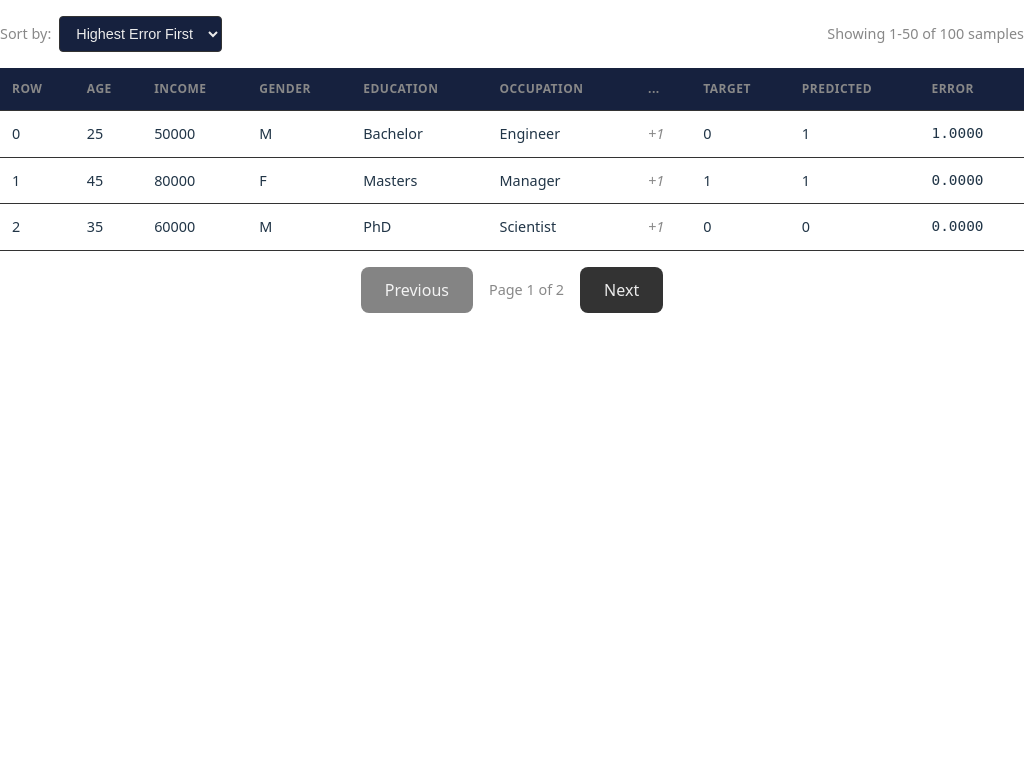
Scenario: ValidationSamplesTab › closes drawer when backdrop is clicked
Expected: the text "25" is shown, left=75, top=110, right=142, bottom=157
Click to open drawer
Click the row "0 25 50000 M Bachelor Engineer +1 0 1 1.0000" at (512, 134), box left=0, top=110, right=1023, bottom=157
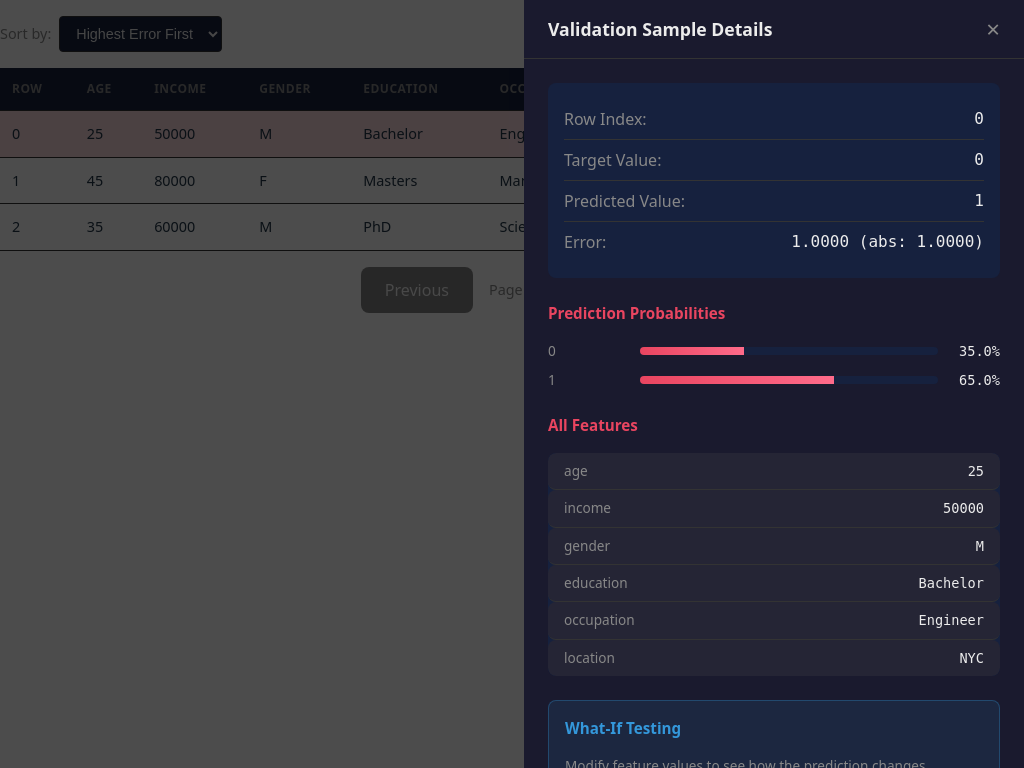
Expected: the heading "Validation Sample Details" is shown, left=548, top=16, right=772, bottom=42
Click the element with class "sample-drawer-backdrop" at (512, 384), box left=0, top=0, right=1023, bottom=767
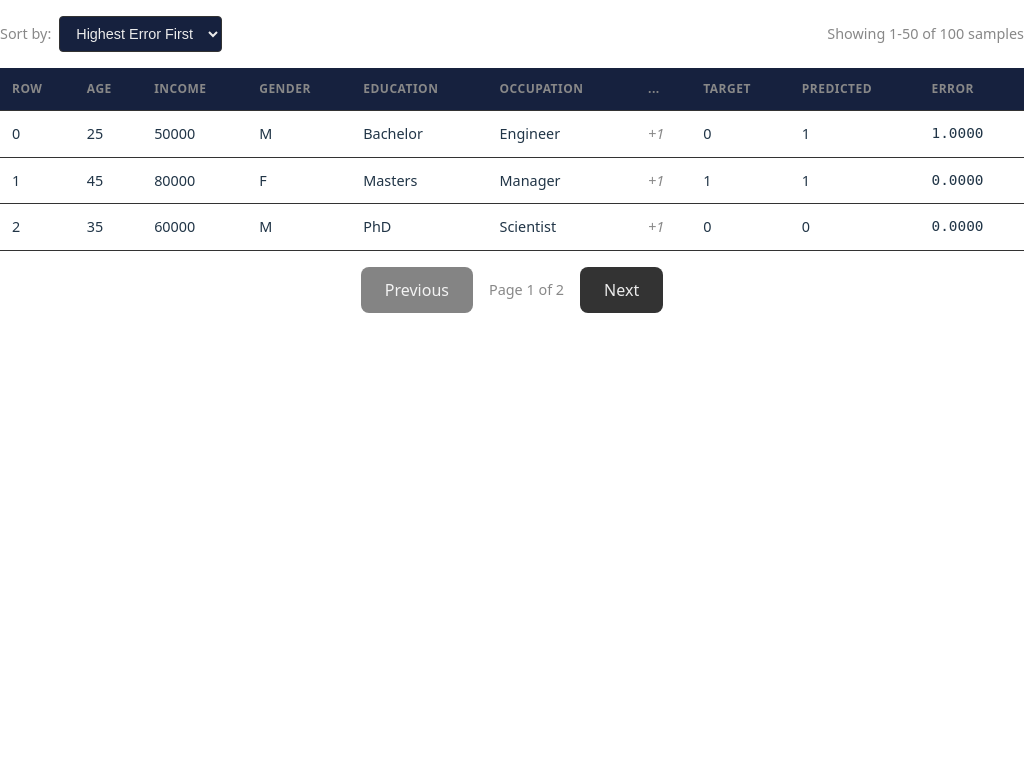
Expected: the heading "Validation Sample Details" is gone
